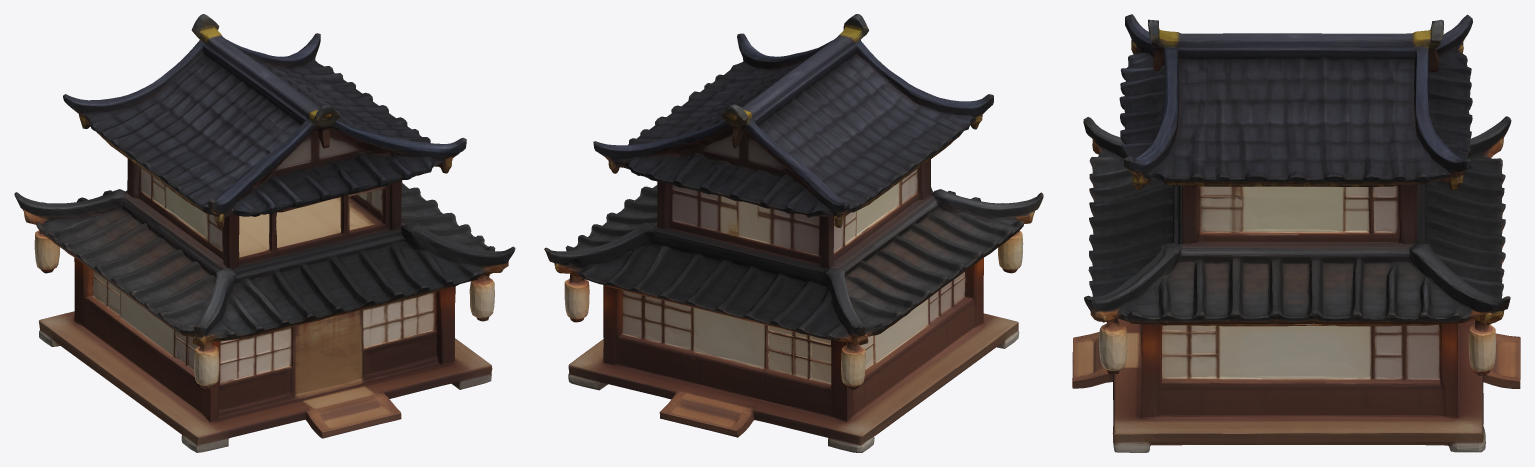
File: machiya.fbx
3 views of the same model, side by side, from view 1: azimuth 30°, elevation 25°; view 2: azimuth 150°, elevation 25°; view 3: azimuth 270°, elevation 25° (orthographic). The views are drawn at different scales.
Parts seen in each view (by area): view 1: geometry_0; view 2: geometry_0; view 3: geometry_0.
Part boxes in pixels (x1,y1,x2,y2): geometry_0: (14,14,515,452); geometry_0: (544,14,1043,452); geometry_0: (1072,14,1520,452).
Bounding box in the file's own units: 0.8598 × 0.7617 × 0.8858.
1 material, 1 textured.
